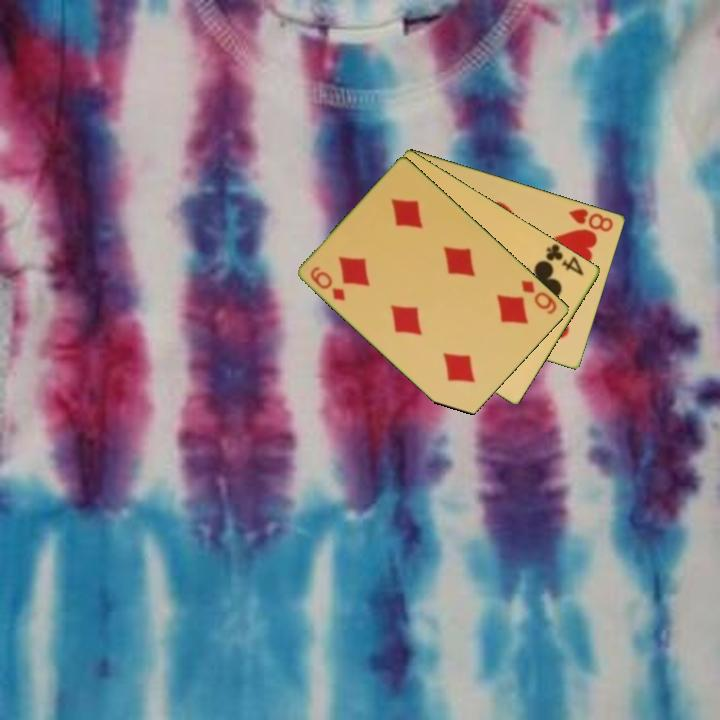4c: (542, 240, 587, 279)
6d: (518, 276, 560, 317), (307, 263, 349, 304)
8h: (565, 205, 616, 235)
